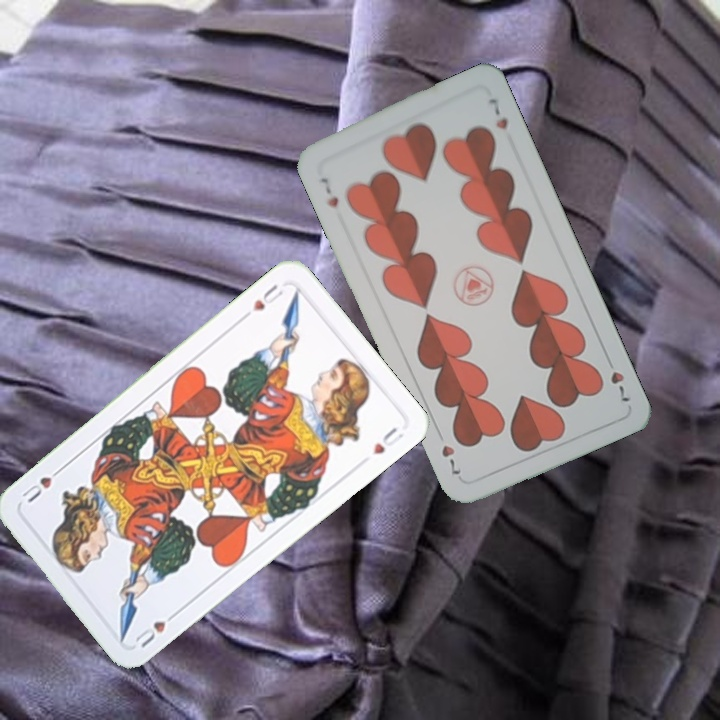H7: (602, 351, 633, 405), (316, 173, 342, 210)
HU: (129, 607, 181, 651), (248, 280, 286, 314)
